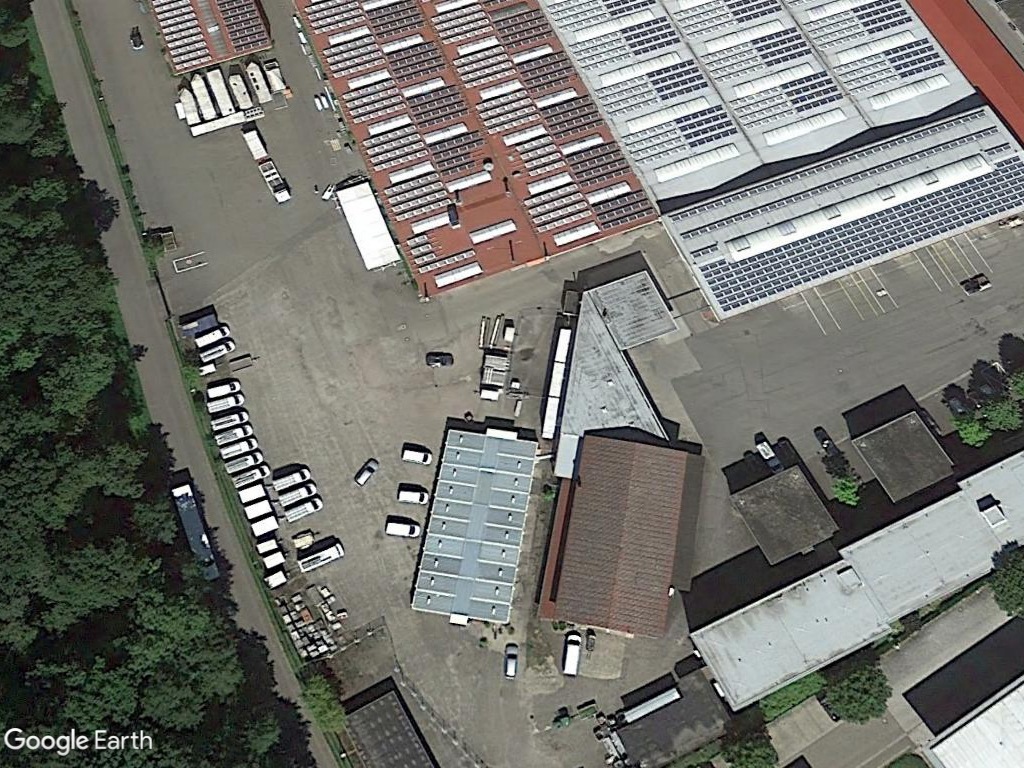longvehicle: (166, 479, 225, 583)
van: (563, 627, 581, 681), (398, 444, 439, 466), (385, 519, 426, 539)
